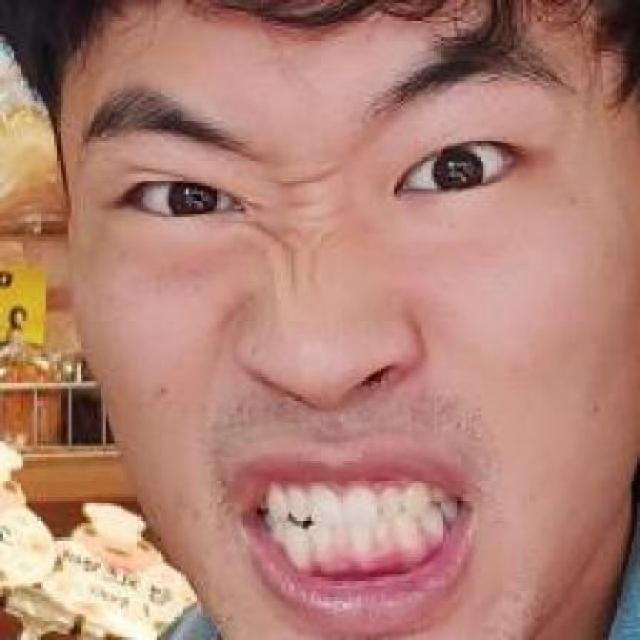angry: (73, 61, 615, 587)
